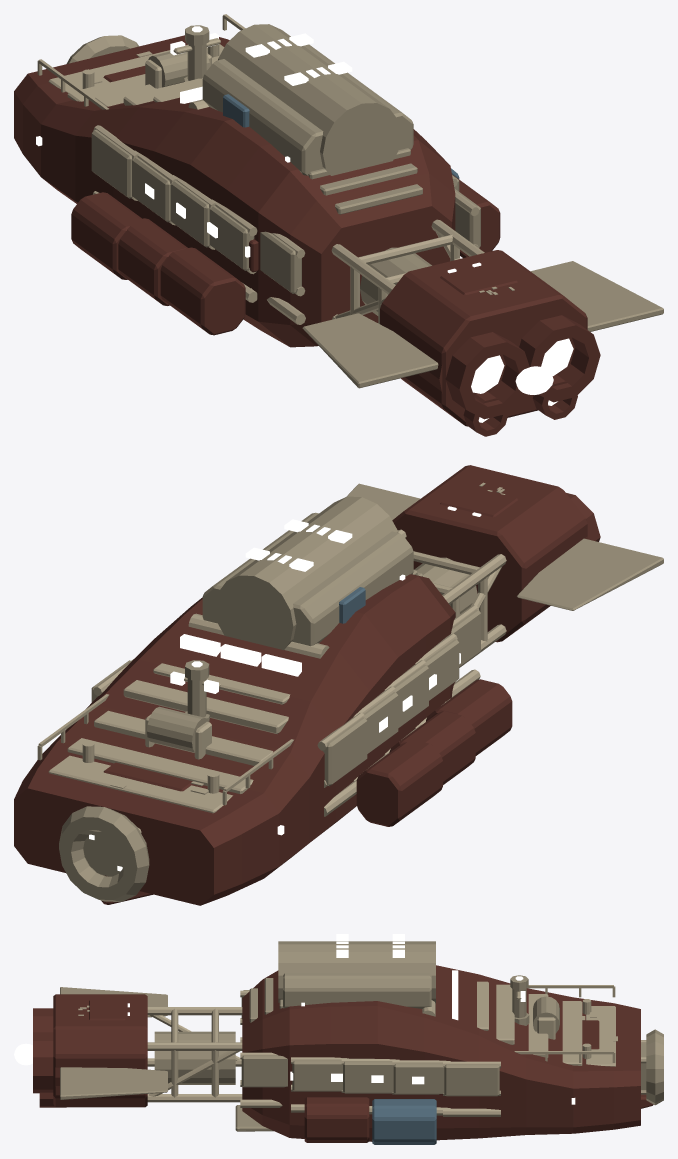
The picture shows the model from 3 angles, top to bottom: view 1: azimuth 30°, elevation 25°; view 2: azimuth 150°, elevation 25°; view 3: azimuth 270°, elevation 25°; orthographic projection. The views are drawn at different scales.
Parts seen in each view (by area): view 1: RIMWARD_HULL, RIMWARD_EMISSIVE, RIMWARD_ENGINE_GLOW; view 2: RIMWARD_HULL, RIMWARD_EMISSIVE; view 3: RIMWARD_HULL, RIMWARD_EMISSIVE, RIMWARD_ENGINE_GLOW.
Part boxes in pixels (x1,y1,x2,y2): RIMWARD_HULL: [14, 14, 663, 436]; RIMWARD_EMISSIVE: [36, 26, 573, 422]; RIMWARD_ENGINE_GLOW: [515, 366, 553, 394]; RIMWARD_HULL: [14, 465, 663, 905]; RIMWARD_EMISSIVE: [89, 506, 481, 871]; RIMWARD_HULL: [33, 941, 663, 1144]; RIMWARD_EMISSIVE: [127, 934, 575, 1104]; RIMWARD_ENGINE_GLOW: [14, 1043, 32, 1065].
Bounding box in the file's own units: 4.51 × 3.17 × 10.58.
